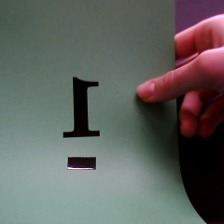green1: (49, 71, 116, 176)
